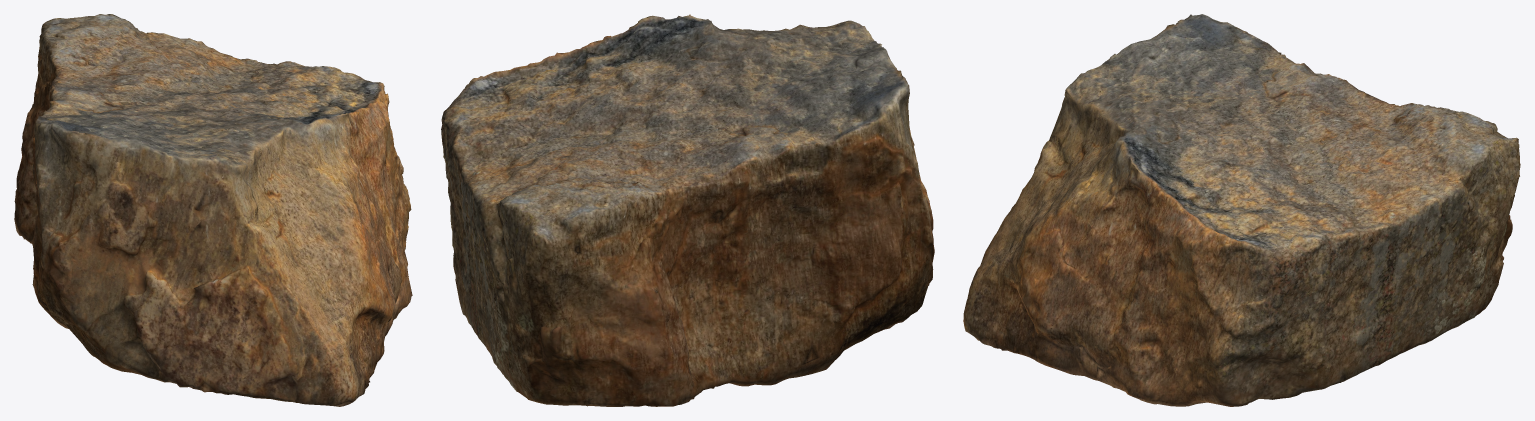
File: namaqualand_boulder_03.glb
3 views of the same model, side by side, from view 1: azimuth 30°, elevation 25°; view 2: azimuth 150°, elevation 25°; view 3: azimuth 270°, elevation 25° (orthographic). The views are drawn at different scales.
Parts seen in each view (by area): view 1: boulder_03_LOD0; view 2: boulder_03_LOD0; view 3: boulder_03_LOD0.
Part boxes in pixels (x1,y1,x2,y2): boulder_03_LOD0: (14, 14, 412, 406); boulder_03_LOD0: (441, 14, 934, 406); boulder_03_LOD0: (963, 14, 1520, 406).
Bounding box in the file's own units: 2.41 × 1.47 × 3.07.
Materials: 1 (1 with a texture image).
